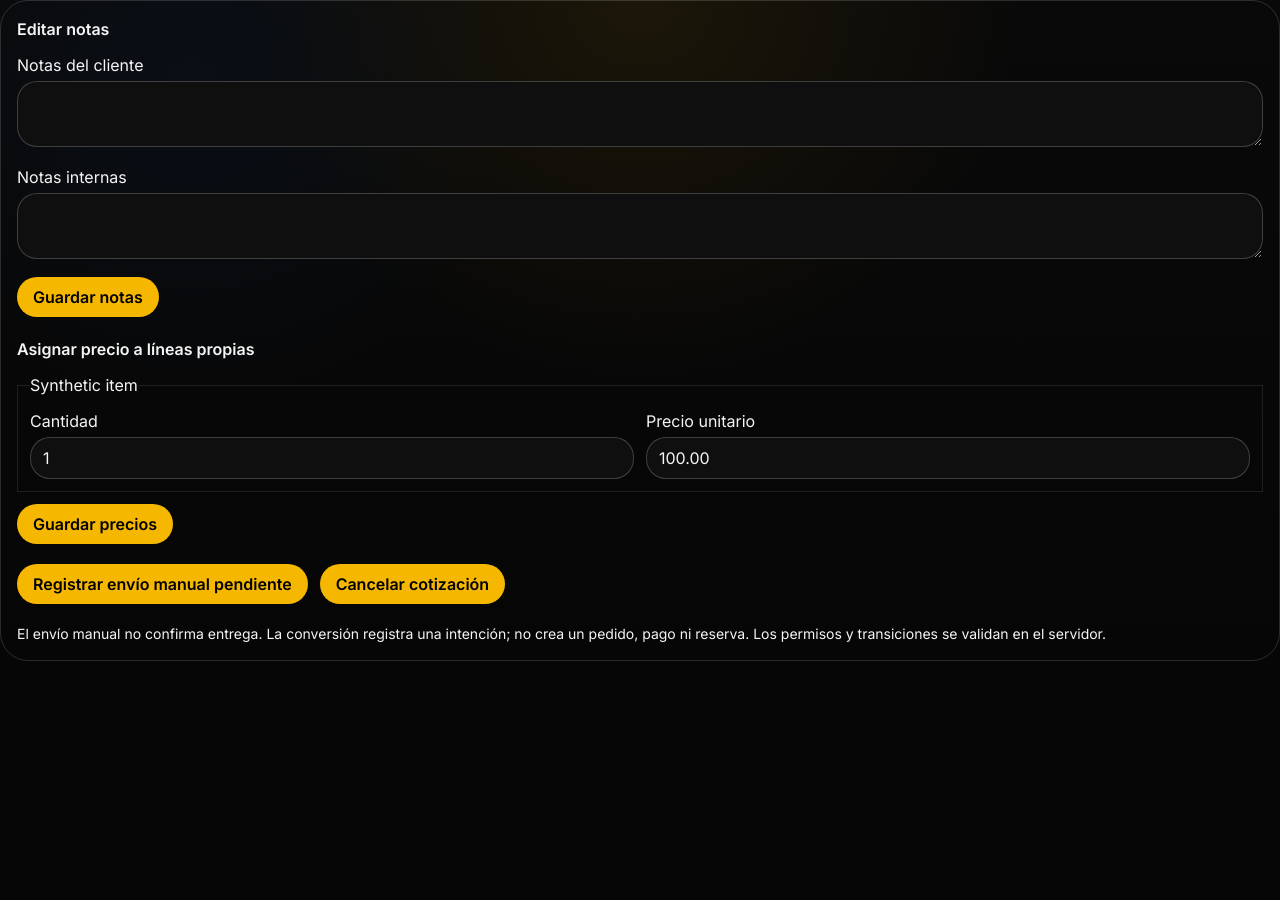
CRM confirmations match the requested resource and canonical effect › rejects note confirmation that changed the known current status
Click the button "Guardar notas": (88, 297) top-left (17, 277), bottom-right (159, 317)
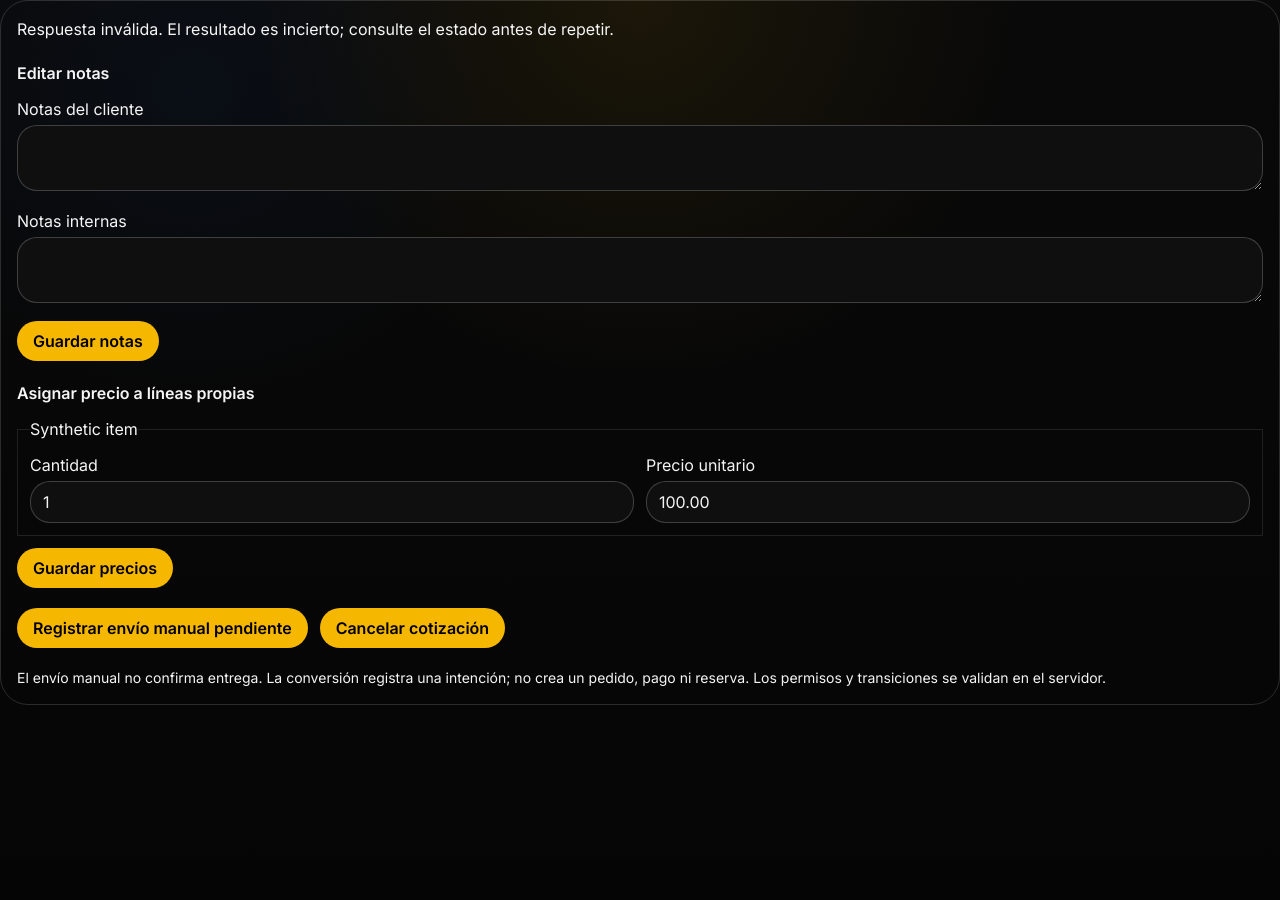
Expected: the message shows "incierto", top-left (17, 19), bottom-right (614, 39)
